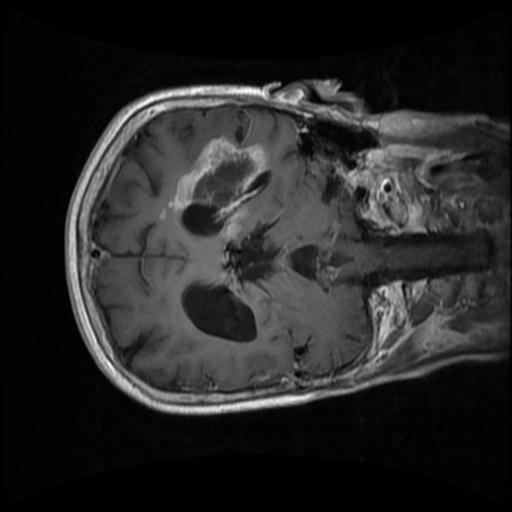glioma: (166, 137, 267, 241)
